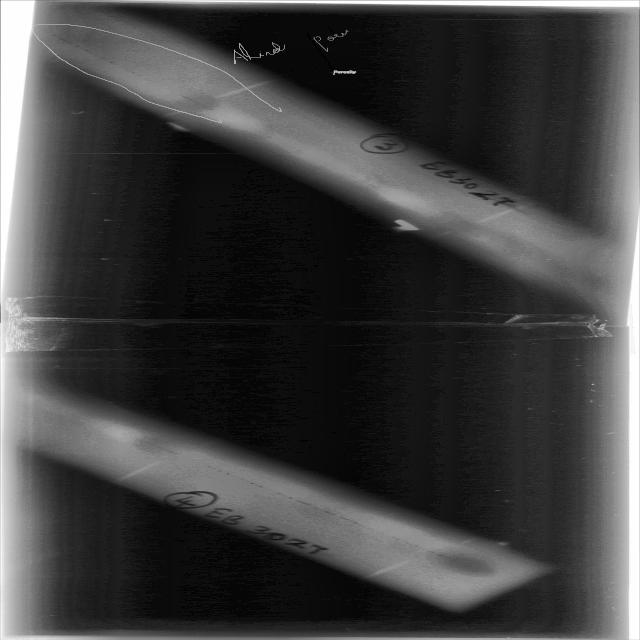porosity: (76, 44, 86, 53), (128, 70, 138, 75), (224, 473, 235, 476), (100, 58, 106, 63), (323, 510, 332, 513), (245, 481, 253, 484), (264, 489, 272, 492), (53, 35, 59, 38), (350, 521, 358, 523), (286, 497, 291, 499)
